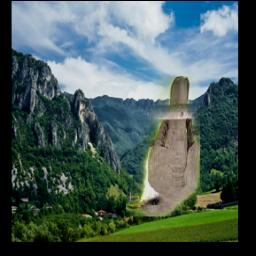Cuckoo: (126, 77, 200, 217)
